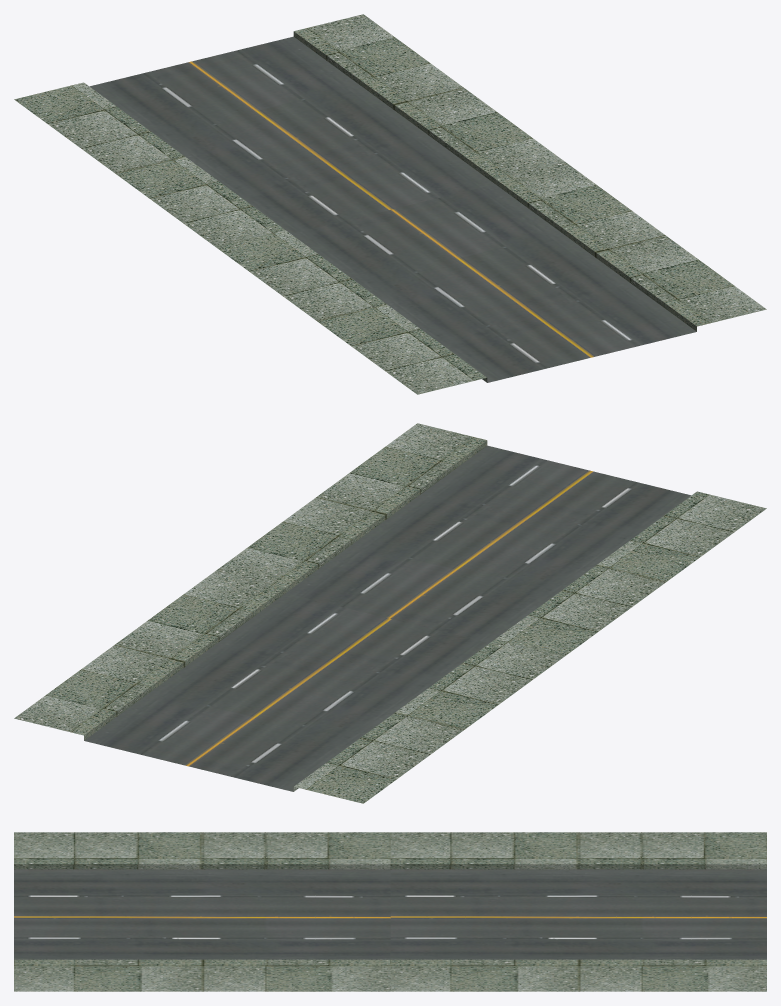
File: roadblock C.FBX
3 views of the same model, one above another, from view 1: azimuth 30°, elevation 25°; view 2: azimuth 150°, elevation 25°; view 3: azimuth 270°, elevation 25° (orthographic). The views are drawn at different scales.
Parts seen in each view (by area): view 1: Box001; view 2: Box001; view 3: Box001.
Part boxes in pixels (x1,y1,x2,y2): Box001: (14, 14, 766, 394); Box001: (14, 423, 766, 803); Box001: (14, 832, 766, 991).
Bounding box in the file's own units: 40 × 0.5824 × 79.97.
